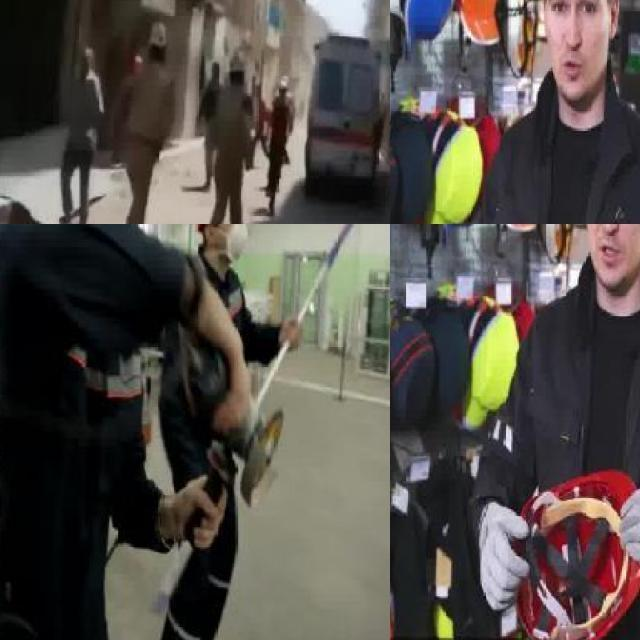apron: (476, 502, 530, 613), (615, 485, 640, 602)
